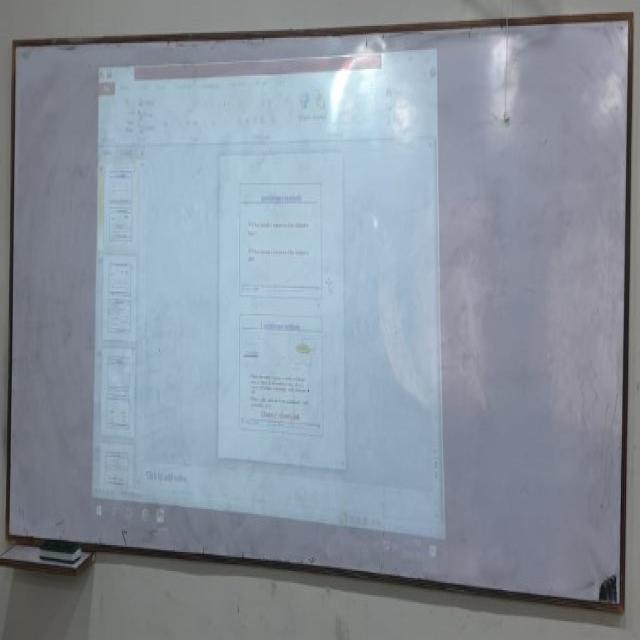Slide: (91, 44, 448, 562)
White-board: (13, 17, 632, 610)
